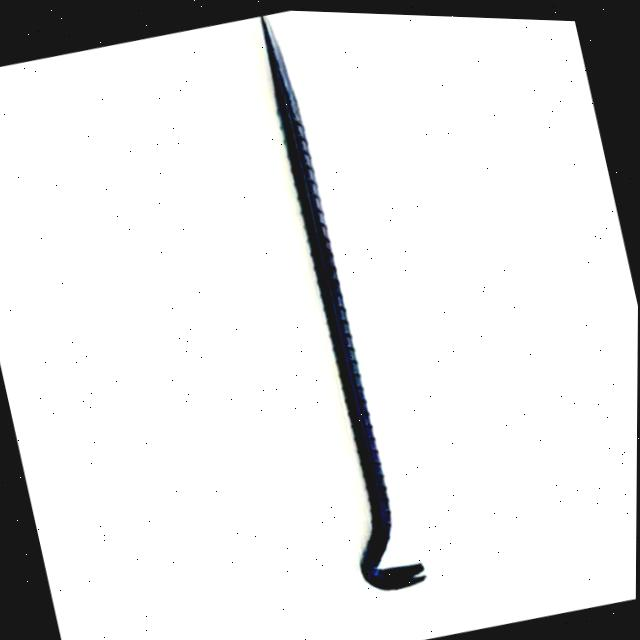crow bar: (260, 13, 432, 587)
